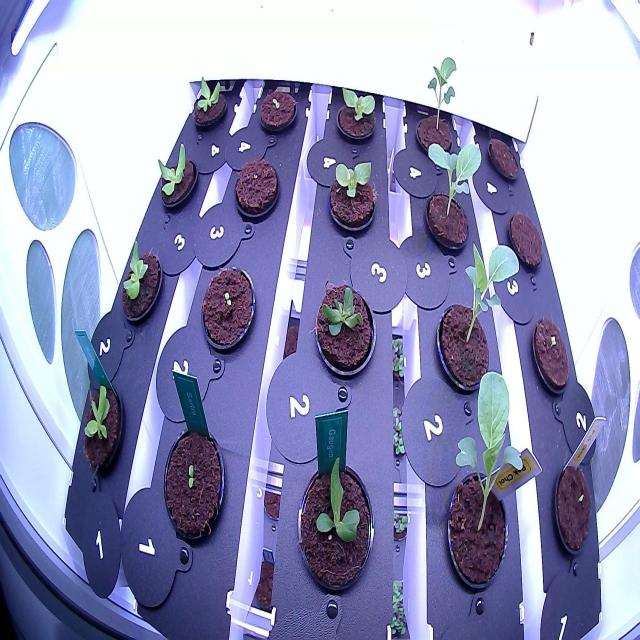germination: (158, 424, 228, 553), (198, 257, 258, 363), (530, 310, 576, 398), (256, 81, 299, 141)
pod: (548, 454, 597, 560), (230, 149, 283, 226), (504, 202, 549, 273), (482, 129, 525, 192)
young: (294, 448, 376, 603), (311, 267, 378, 385), (79, 377, 131, 482), (322, 153, 382, 243), (114, 235, 168, 332), (329, 79, 384, 153), (155, 133, 203, 216), (188, 64, 232, 138)
